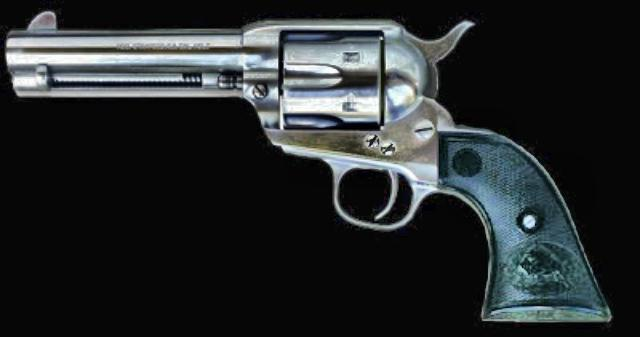pistol: (3, 3, 611, 323)
